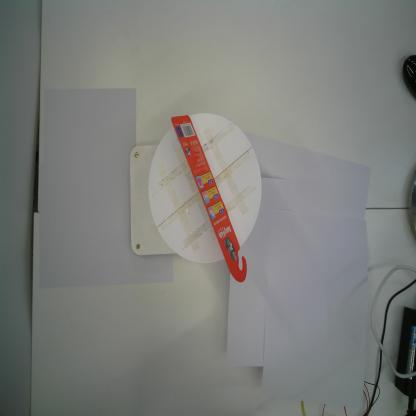Personal Hygiene: (170, 114, 248, 284)
